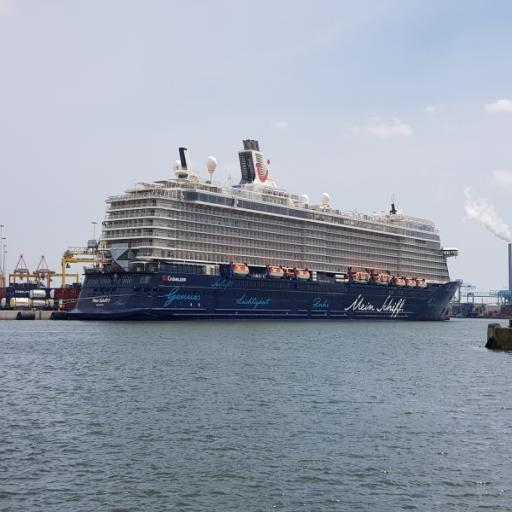cruises: (57, 133, 467, 326)
